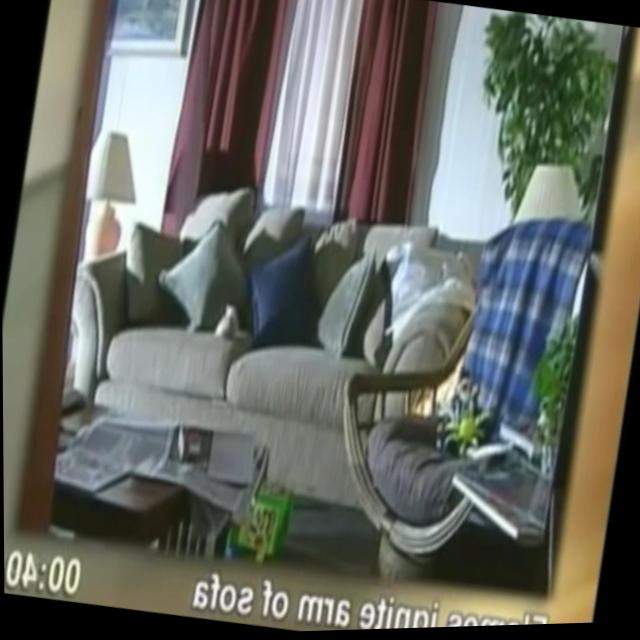fire: (415, 352, 467, 428)
